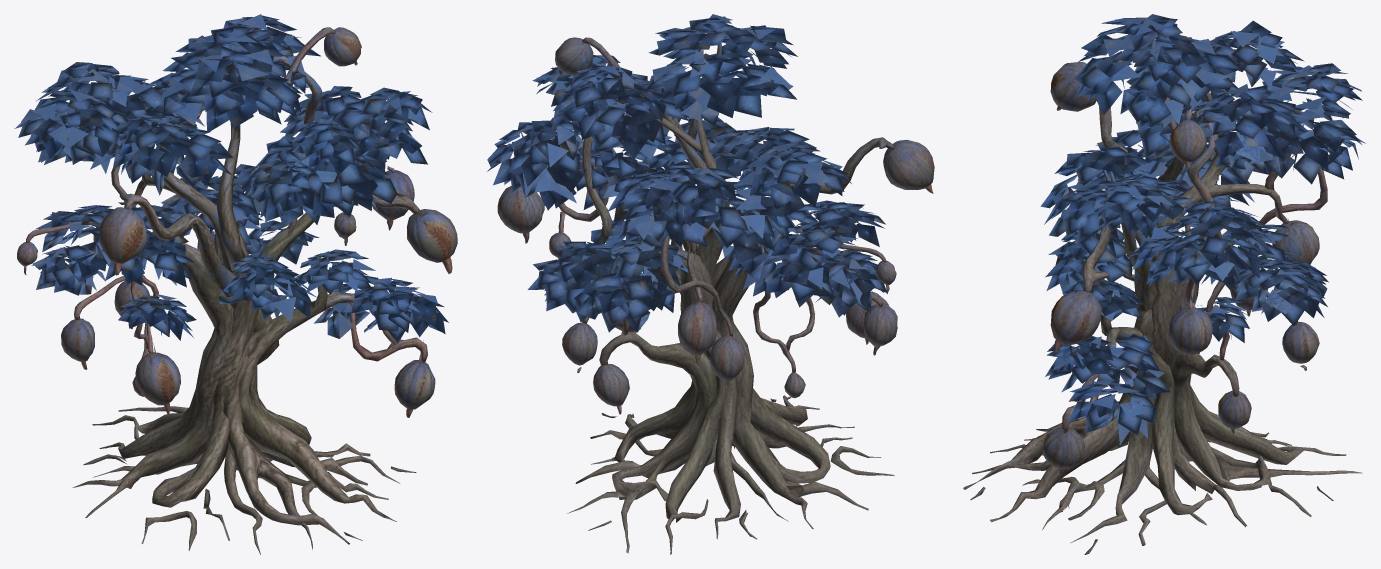
Rendered from Tree-02.glb.
The picture shows the model from 3 angles, left to right: view 1: azimuth 30°, elevation 25°; view 2: azimuth 150°, elevation 25°; view 3: azimuth 270°, elevation 25°; orthographic projection.
Visible parts, largest first — view 1: mesh_node; view 2: mesh_node; view 3: mesh_node.
Part boxes in pixels (x1,y1,x2,y2): mesh_node: [14, 14, 457, 554]; mesh_node: [487, 14, 934, 554]; mesh_node: [963, 14, 1365, 554].
Size of the model in its own units: 0.9219 by 1 by 0.8008.
1 material, 1 textured.
